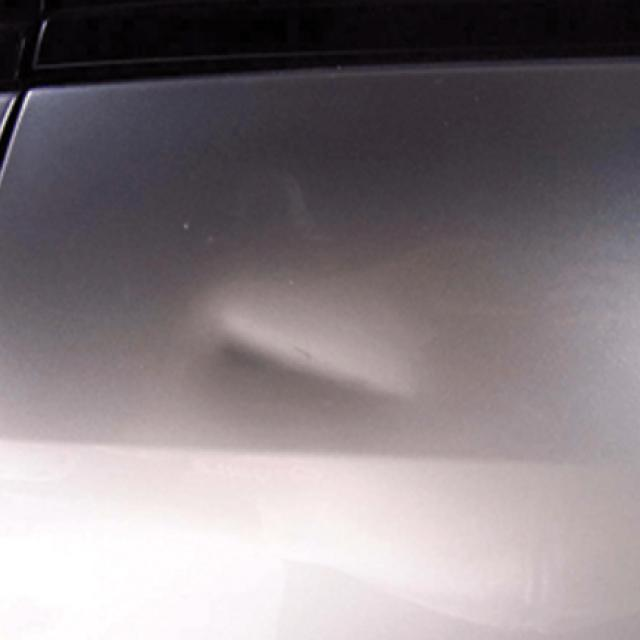dents: (181, 282, 446, 461)
